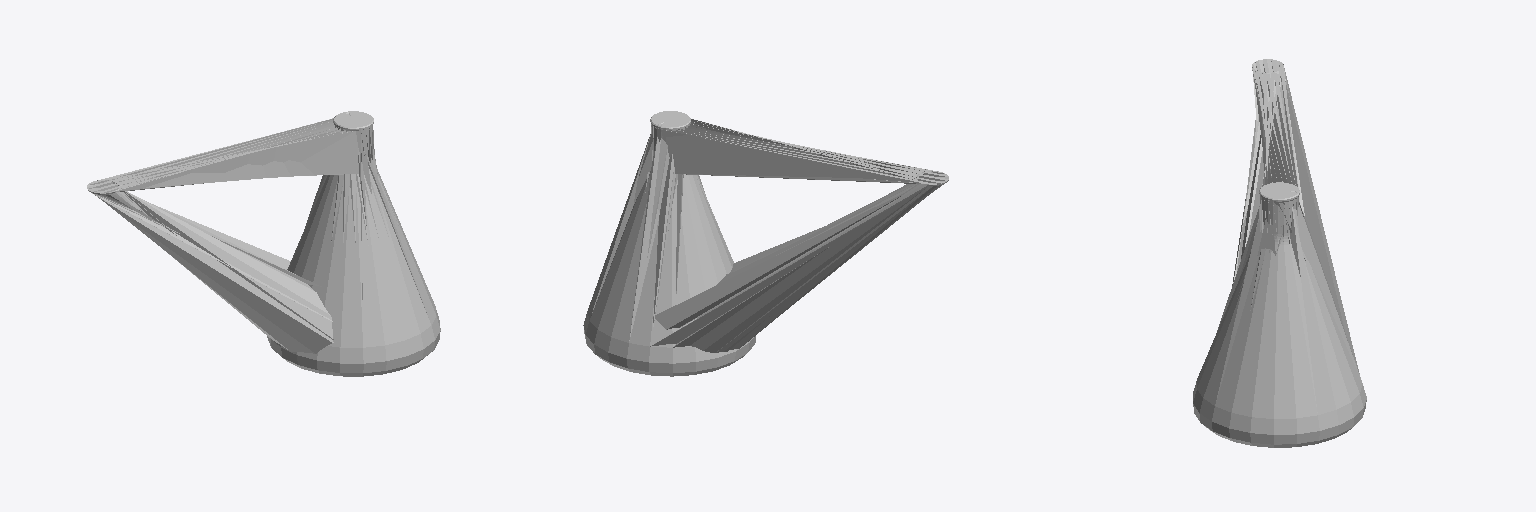
Rendered from flasks.obj.
The picture shows the model from 3 angles: view 1: azimuth 30°, elevation 25°; view 2: azimuth 150°, elevation 25°; view 3: azimuth 270°, elevation 25°; orthographic projection.
Visible parts, largest first — view 1: Sphere001, Object001, Cylinder001; view 2: Sphere001, Object001, Cylinder001; view 3: Object001, Sphere001, Cylinder001.
Part boxes in pixels (x1,y1,x2,y2): Sphere001: (87, 111, 398, 353); Object001: (267, 111, 440, 376); Cylinder001: (340, 112, 428, 372); Sphere001: (599, 111, 948, 352); Object001: (583, 111, 755, 376); Cylinder001: (588, 124, 704, 332); Object001: (1193, 182, 1366, 447); Sphere001: (1232, 59, 1363, 407); Cylinder001: (1216, 191, 1361, 414).
Size of the model in its own units: 86.13 by 53.74 by 37.52.